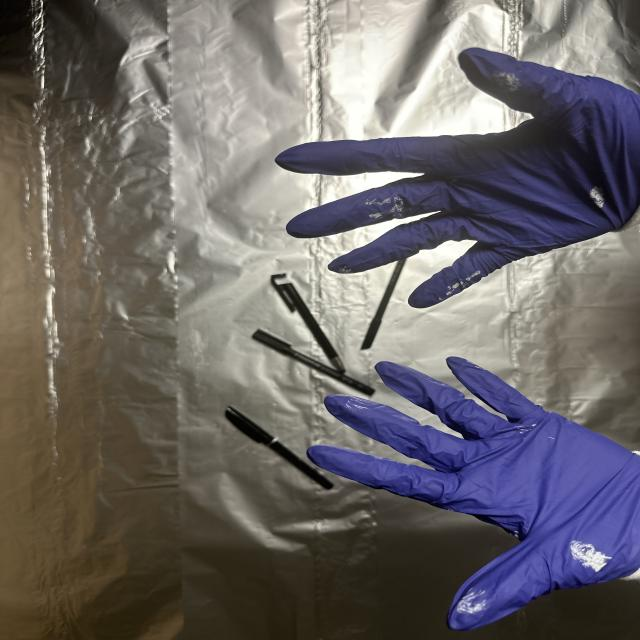gloves_contaminated: (276, 48, 640, 308), (308, 357, 640, 630)
